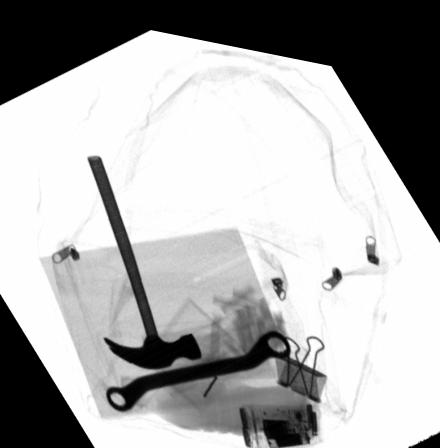Hammer: (87, 152, 202, 362)
Wrench: (105, 318, 290, 407)
